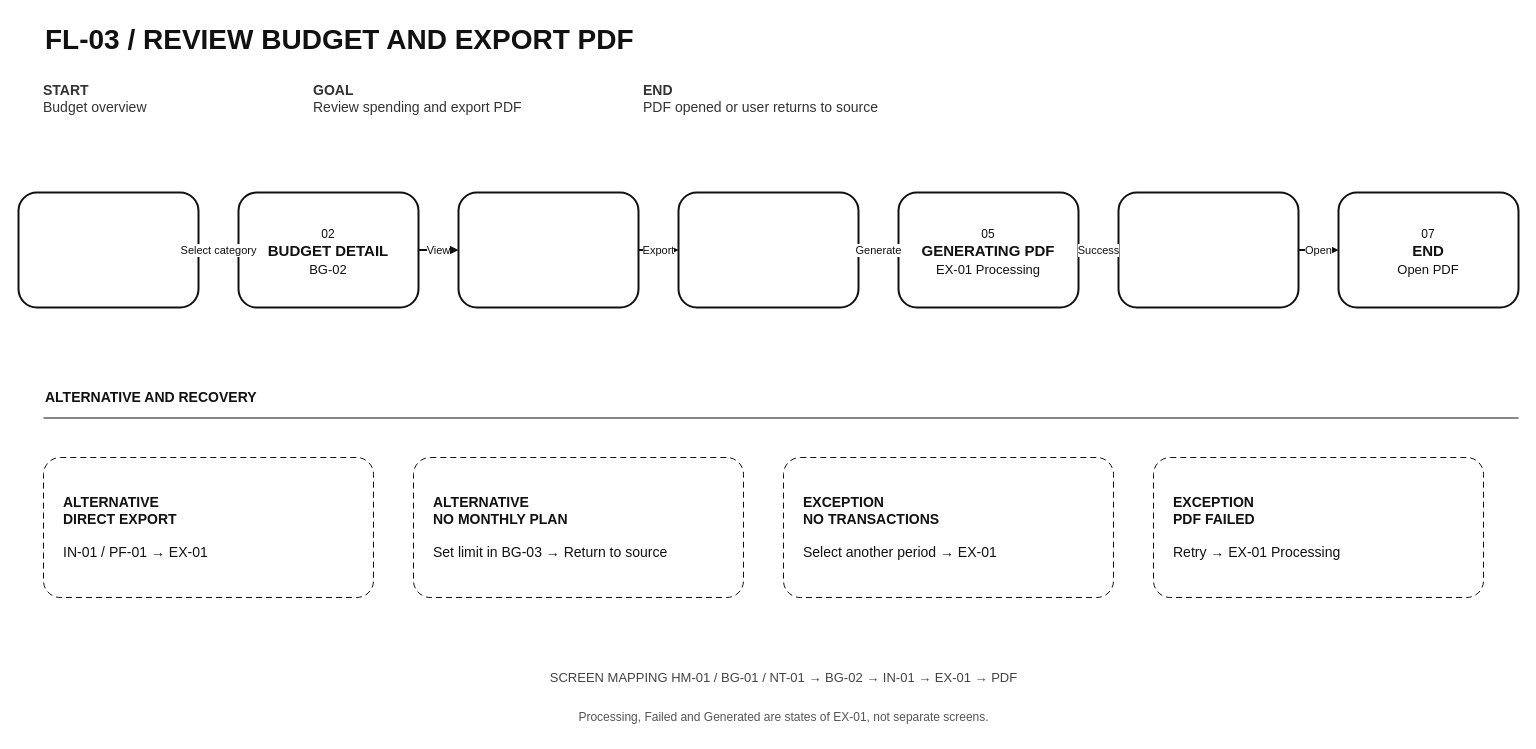
This 1536x749 diagram has some shape labels left out. Here are the shapes that lost their labels. From the top down, the centre of each, then its label:
point (108, 249): 01 START HM-01 / BG-01 / NT-01
point (548, 249): 03 INSIGHTS IN-01
point (768, 249): 04 EXPORT REPORT EX-01
point (1208, 249): 06 PDF READY EX-01 Generated
